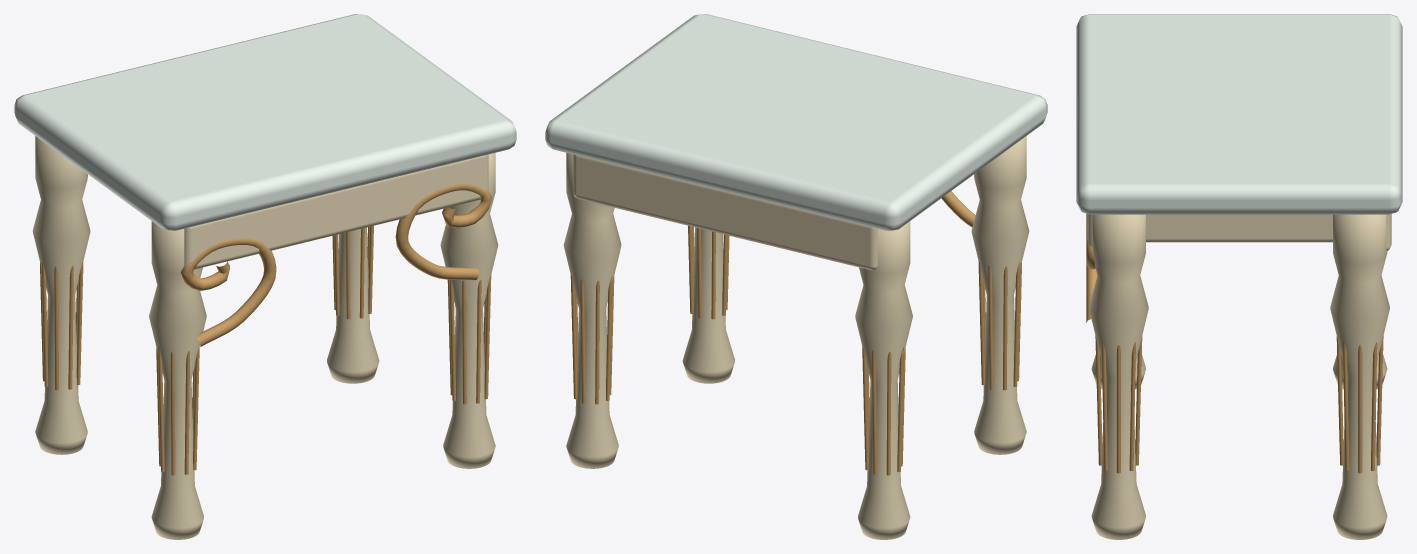
File: night_table_palais-556061171780.glb
3 views of the same model, side by side, from view 1: azimuth 30°, elevation 25°; view 2: azimuth 150°, elevation 25°; view 3: azimuth 270°, elevation 25° (orthographic). The views are drawn at different scales.
Visible parts, largest first — view 1: surface_porcelain, surface_ivory, surface_brass; view 2: surface_porcelain, surface_ivory, surface_brass; view 3: surface_porcelain, surface_ivory, surface_brass.
Boxes of the visible parts, x1,y1,x2,y2 form: surface_porcelain: (14, 14, 516, 230); surface_ivory: (32, 136, 498, 539); surface_brass: (40, 184, 491, 475); surface_porcelain: (545, 14, 1047, 230); surface_ivory: (563, 136, 1029, 539); surface_brass: (570, 191, 1021, 475); surface_porcelain: (1076, 14, 1402, 214); surface_ivory: (1087, 214, 1391, 539); surface_brass: (1086, 213, 1383, 473).
Bounding box in the file's own units: 0.5499 × 0.51 × 0.4212.
